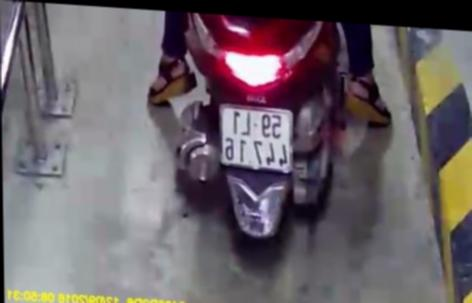License_Plate: (206, 100, 303, 183)
